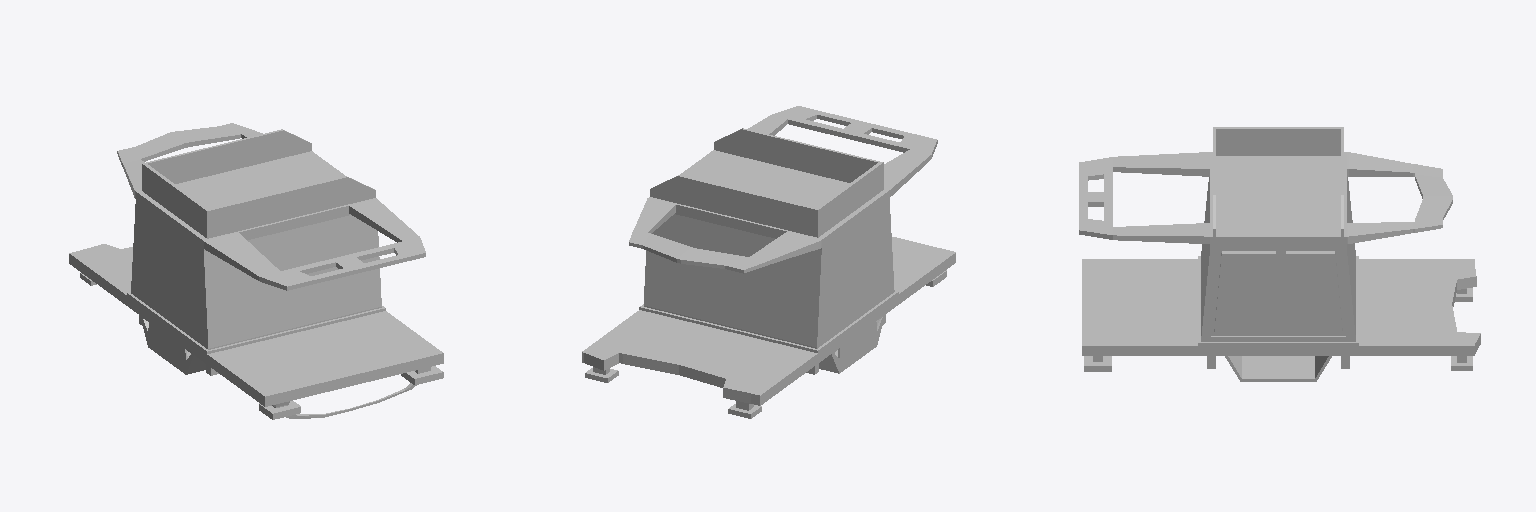
File: Carritoprueba.obj
3 views of the same model, side by side, from view 1: azimuth 30°, elevation 25°; view 2: azimuth 150°, elevation 25°; view 3: azimuth 270°, elevation 25° (orthographic).
Parts seen in each view (by area): view 1: textureEditorIsolateSelectSet low polySurface31, low polySurface9 polySurface7 polySurface5 polySurface3 polySurf, textureEditorIsolateSelectSet low polySurface22, low polySurface2, modelPanel3ViewSelectedSet low polySurface3 polySurface1 polySur, low polySurface5 polySurface3 polySurface1 polySurface32 polySur, low polySurface22, modelPanel2ViewSelectedSet polySurface12 low; view 2: textureEditorIsolateSelectSet low polySurface31, low polySurface5 polySurface3 polySurface1 polySurface32 polySur, low polySurface22, textureEditorIsolateSelectSet low polySurface22, low polySurface2, modelPanel3ViewSelectedSet low polySurface3 polySurface1 polySur, low polySurface9 polySurface7 polySurface5 polySurface3 polySurf, modelPanel2ViewSelectedSet polySurface12 low, low polySurface5 polySurface3 polySurface1 polySurface29 polySur; view 3: textureEditorIsolateSelectSet low polySurface31, low polySurface9 polySurface7 polySurface5 polySurface3 polySurf, low polySurface5 polySurface3 polySurface1 polySurface32 polySur, low polySurface7 polySurface5 polySurface3 polySurface1 polySurf, low polySurface2, modelPanel3ViewSelectedSet low polySurface3 polySurface1 polySur, textureEditorIsolateSelectSet low polySurface22, polySurface12 low, low polySurface22, low polySurface5 polySurface3 polySurface1 polySurface29 polySur.
Boxes of the visible parts, x1=… form: textureEditorIsolateSelectSet low polySurface31: x1=127, y1=151, x2=385, y2=363; low polySurface9 polySurface7 polySurface5 polySurface3 polySurf: x1=207, y1=311, x2=443, y2=406; textureEditorIsolateSelectSet low polySurface22: x1=148, y1=130, x2=375, y2=238; low polySurface2: x1=205, y1=199, x2=425, y2=290; modelPanel3ViewSelectedSet low polySurface3 polySurface1 polySur: x1=117, y1=123, x2=262, y2=198; low polySurface5 polySurface3 polySurface1 polySurface32 polySur: x1=69, y1=244, x2=132, y2=305; low polySurface22: x1=142, y1=129, x2=374, y2=214; modelPanel2ViewSelectedSet polySurface12 low: x1=141, y1=316, x2=192, y2=374; textureEditorIsolateSelectSet low polySurface31: x1=639, y1=150, x2=898, y2=363; low polySurface5 polySurface3 polySurface1 polySurface32 polySur: x1=582, y1=310, x2=817, y2=405; low polySurface22: x1=650, y1=128, x2=882, y2=237; textureEditorIsolateSelectSet low polySurface22: x1=714, y1=129, x2=883, y2=212; low polySurface2: x1=748, y1=106, x2=937, y2=195; modelPanel3ViewSelectedSet low polySurface3 polySurface1 polySur: x1=629, y1=198, x2=821, y2=273; low polySurface9 polySurface7 polySurface5 polySurface3 polySurf: x1=892, y1=237, x2=955, y2=303; modelPanel2ViewSelectedSet polySurface12 low: x1=832, y1=315, x2=884, y2=373; low polySurface5 polySurface3 polySurface1 polySurface29 polySur: x1=585, y1=367, x2=761, y2=418; textureEditorIsolateSelectSet low polySurface31: x1=1198, y1=152, x2=1358, y2=355; low polySurface9 polySurface7 polySurface5 polySurface3 polySurf: x1=1082, y1=259, x2=1197, y2=355; low polySurface5 polySurface3 polySurface1 polySurface32 polySur: x1=1359, y1=259, x2=1480, y2=355; low polySurface7 polySurface5 polySurface3 polySurface1 polySurf: x1=1207, y1=251, x2=1349, y2=368; low polySurface2: x1=1079, y1=152, x2=1209, y2=243; modelPanel3ViewSelectedSet low polySurface3 polySurface1 polySur: x1=1347, y1=152, x2=1452, y2=243; textureEditorIsolateSelectSet low polySurface22: x1=1216, y1=129, x2=1340, y2=155; polySurface12 low: x1=1225, y1=356, x2=1331, y2=381; low polySurface22: x1=1213, y1=127, x2=1343, y2=235; low polySurface5 polySurface3 polySurface1 polySurface29 polySur: x1=1451, y1=288, x2=1472, y2=370.
Size of the model in its own units: 6.91 by 6.56 by 13.4.